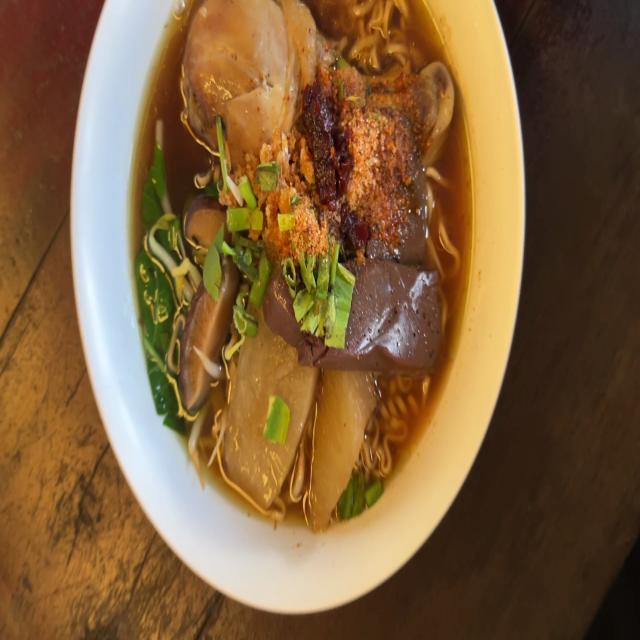noodle: (130, 0, 475, 541)
